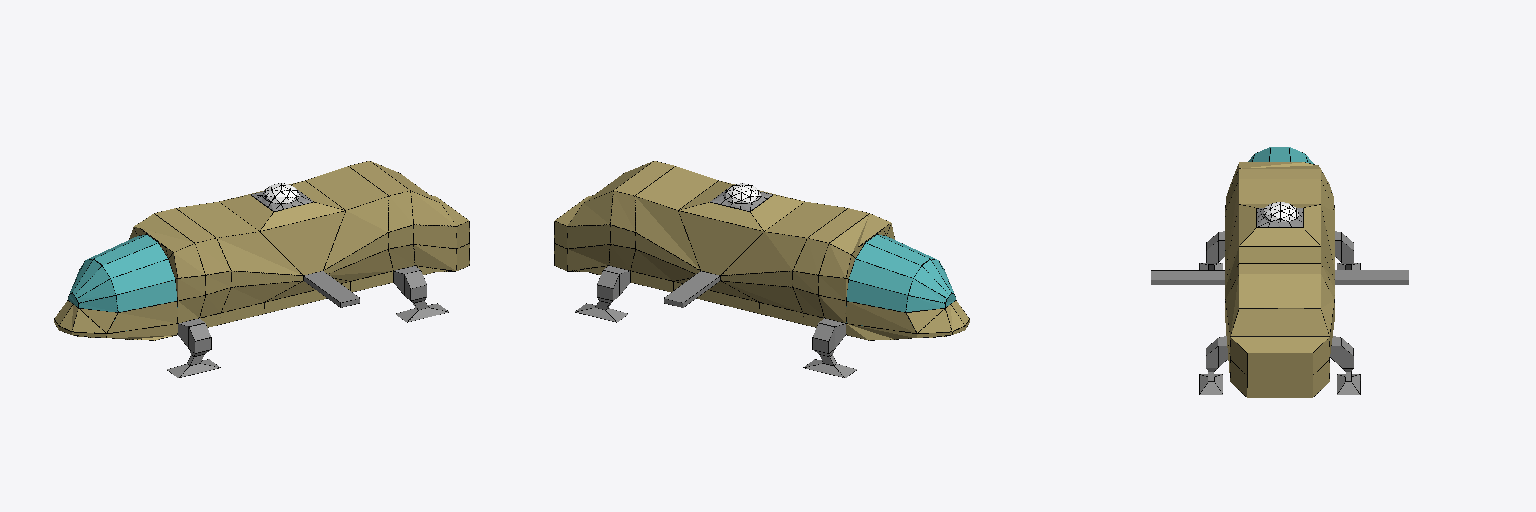
3 views of the same model, side by side, from view 1: azimuth 30°, elevation 25°; view 2: azimuth 150°, elevation 25°; view 3: azimuth 270°, elevation 25° (orthographic).
Parts seen in each view (by area): view 1: helo_base.bug_Cube.009; view 2: helo_base.bug_Cube.009; view 3: helo_base.bug_Cube.009.
Boxes of the visible parts, box(x1,y1,x2,y2) form: helo_base.bug_Cube.009: box(54, 161, 469, 377); helo_base.bug_Cube.009: box(554, 161, 969, 377); helo_base.bug_Cube.009: box(1151, 147, 1408, 397).
Bounding box in the file's own units: 9.14 × 2.84 × 5.19.
Materials: 1 (1 with a texture image).